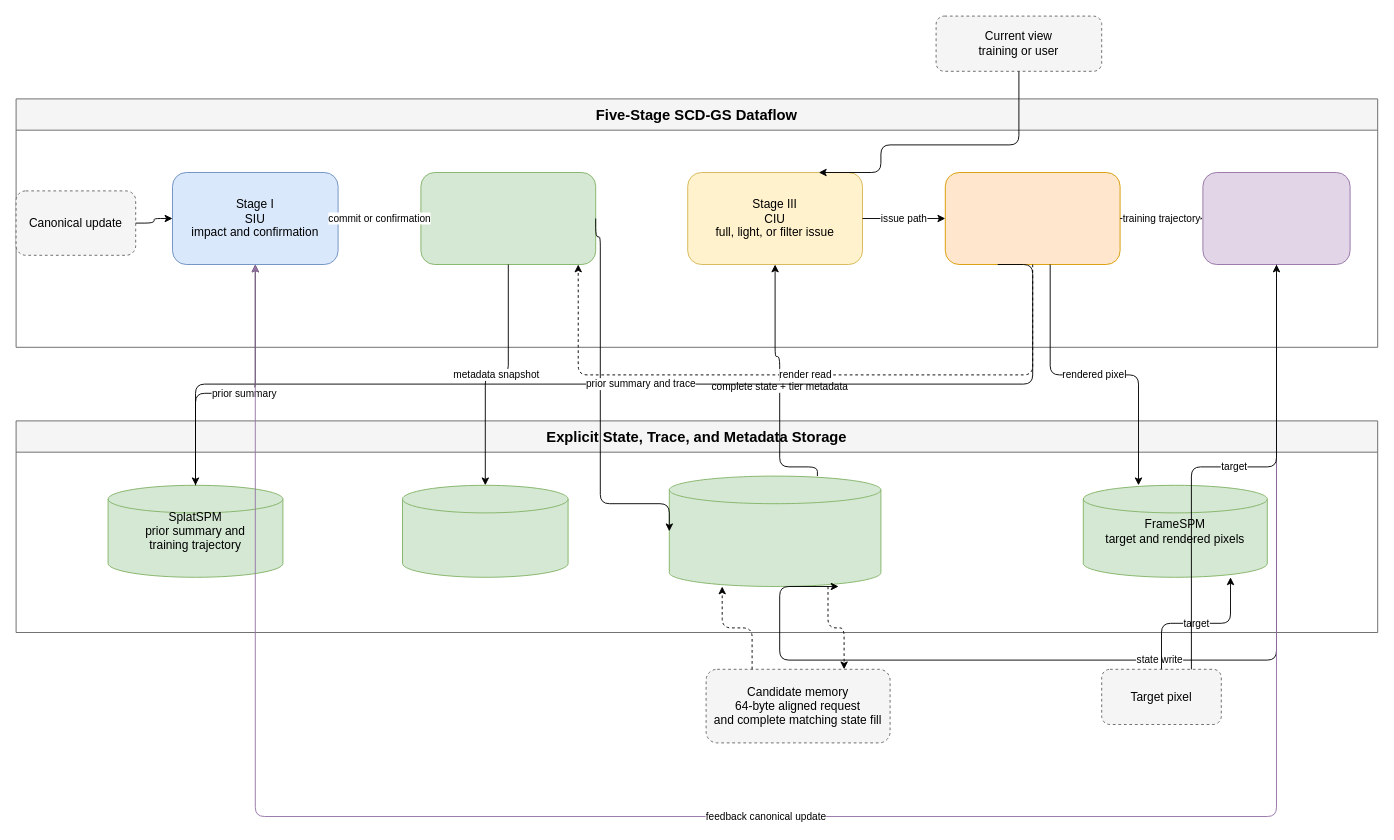
This 1394x840 diagram has some shape labels left out. The shapes that lost their labels are listed below. From the top down, each one's box as (x1, y1, x2, y2) in pixels, then its label:
(420, 172, 596, 264): Stage II FRU tier directory and window state
(944, 172, 1120, 264): Stage IV TRU global tile-depth-gid drain
(1202, 172, 1350, 264): Stage V TUU residual, scalar feedback, Adam step
(402, 484, 568, 577): MetaSPM FRU metadata snapshot
(668, 475, 881, 586): StateSPM active, resident, candidate state and Adam vectors
